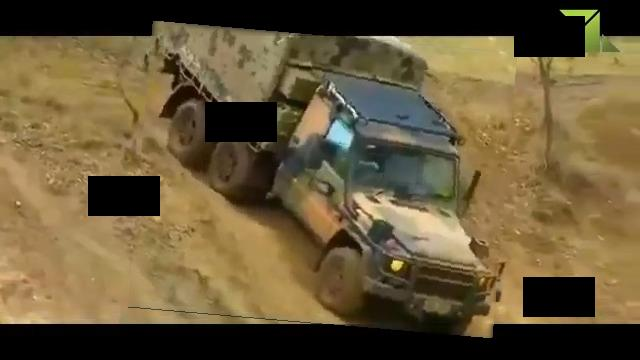MIL_HMMWV: (134, 30, 512, 332)
